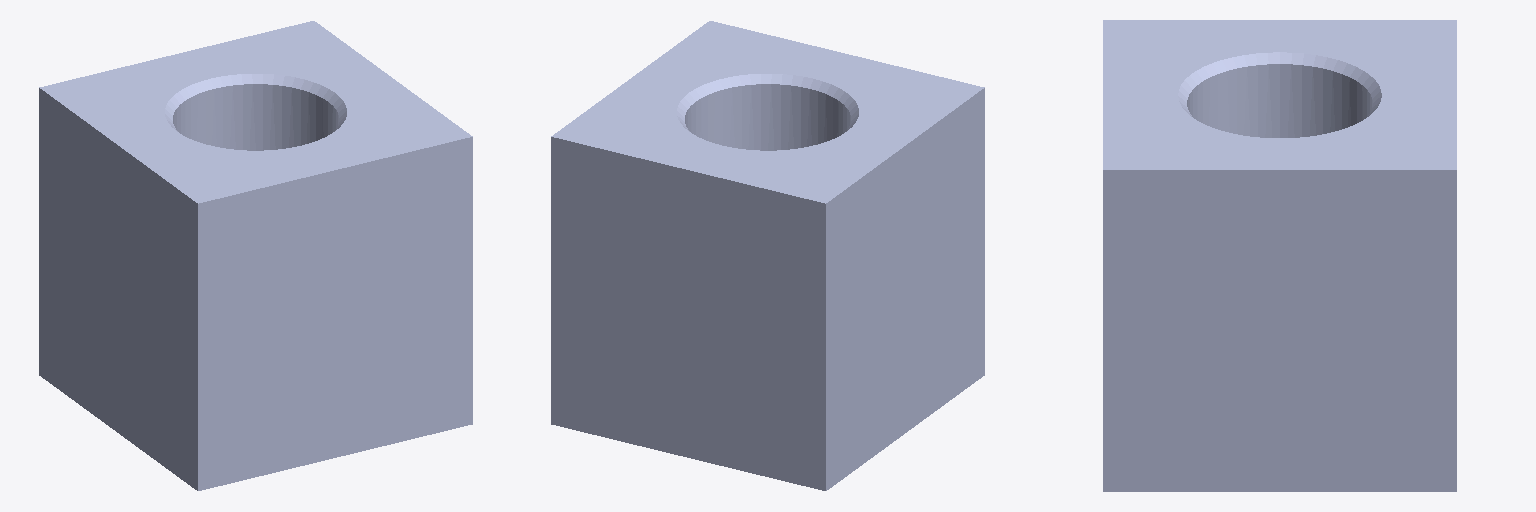
robot.urdf — project_hole:
<?xml version="1.0" encoding="utf-8"?>
<!-- This URDF was automatically created by SolidWorks to URDF Exporter! Originally created by [author] ([email redacted]) 
     Commit Version: 1.6.0-4-g7f85cfe  Build Version: 1.6.7995.38578
     For more information, please see http://wiki.ros.org/sw_urdf_exporter -->
<robot
  name="project_hole">
  <link
    name="base_link">
    <inertial>
      <origin
        xyz="0 0 0"
        rpy="0 0 0" />
      <mass
        value="0.0535751483778379" />
      <inertia
        ixx="1.56743303563329E-05"
        ixy="-7.603871236365E-22"
        ixz="-7.40318390391829E-22"
        iyy="1.56743303563329E-05"
        iyz="7.40428689222587E-22"
        izz="1.64898728865514E-05" />
    </inertial>
    <visual>
      <origin
        xyz="0.5 -1.0 -0.98"
        rpy="-1.5707963268 0 0" />
      <geometry>
        <mesh
          filename="package://project_hole/meshes/base_link.STL" />
      </geometry>
      <material
        name="">
        <color
          rgba="0.792156862745098 0.819607843137255 0.933333333333333 1" />
      </material>
    </visual>
    <collision>
      <origin
        xyz="0.5 -1.0 -0.98"
        rpy="-1.5707963268 0 0" />
      <geometry>
        <mesh
          filename="package://project_hole/meshes/base_link.STL" />
      </geometry>
    </collision>
  </link>
</robot>

--- Render facts (derived) ---
The picture shows the robot from 3 angles, left to right: view 1: azimuth 30°, elevation 25°; view 2: azimuth 150°, elevation 25°; view 3: azimuth 270°, elevation 25°; orthographic projection.
Robot: project_hole — 1 links, 0 joints (none); root link base_link; default pose: all joints at 0.
Visible links, largest first — view 1: base_link; view 2: base_link; view 3: base_link.
Boxes of the visible links, x1,y1,x2,y2 form: base_link: [39, 21, 472, 490]; base_link: [551, 21, 984, 490]; base_link: [1103, 20, 1456, 491].
Size in the robot's own frame: 0.04 by 0.04 by 0.04 metres.
1 mesh visuals loaded from 1 distinct referenced files (1 binary STL).